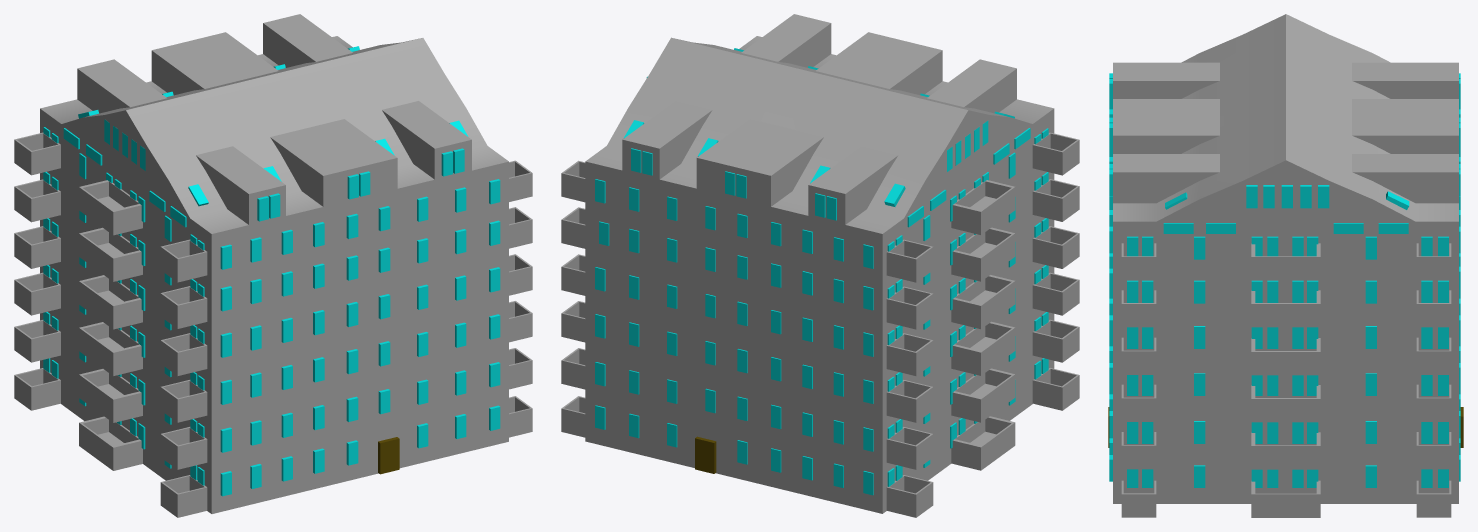
Rendered from appartmentThree.fbx.
3 views of the same model, side by side, from view 1: azimuth 30°, elevation 25°; view 2: azimuth 150°, elevation 25°; view 3: azimuth 270°, elevation 25° (orthographic).
Parts seen in each view (by area): view 1: appartment_03; view 2: appartment_03; view 3: appartment_03.
Boxes of the visible parts, <box> form: appartment_03: <box>14,14,532,517</box>; appartment_03: <box>561,14,1079,517</box>; appartment_03: <box>1108,14,1463,517</box>.
Size of the model in its own units: 23.88 by 21.94 by 20.54.
